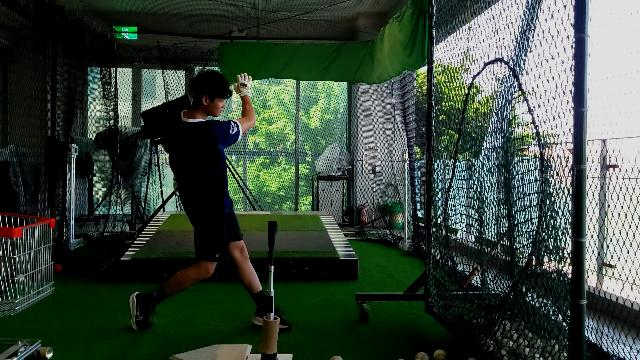bat: (93, 185, 179, 282)
